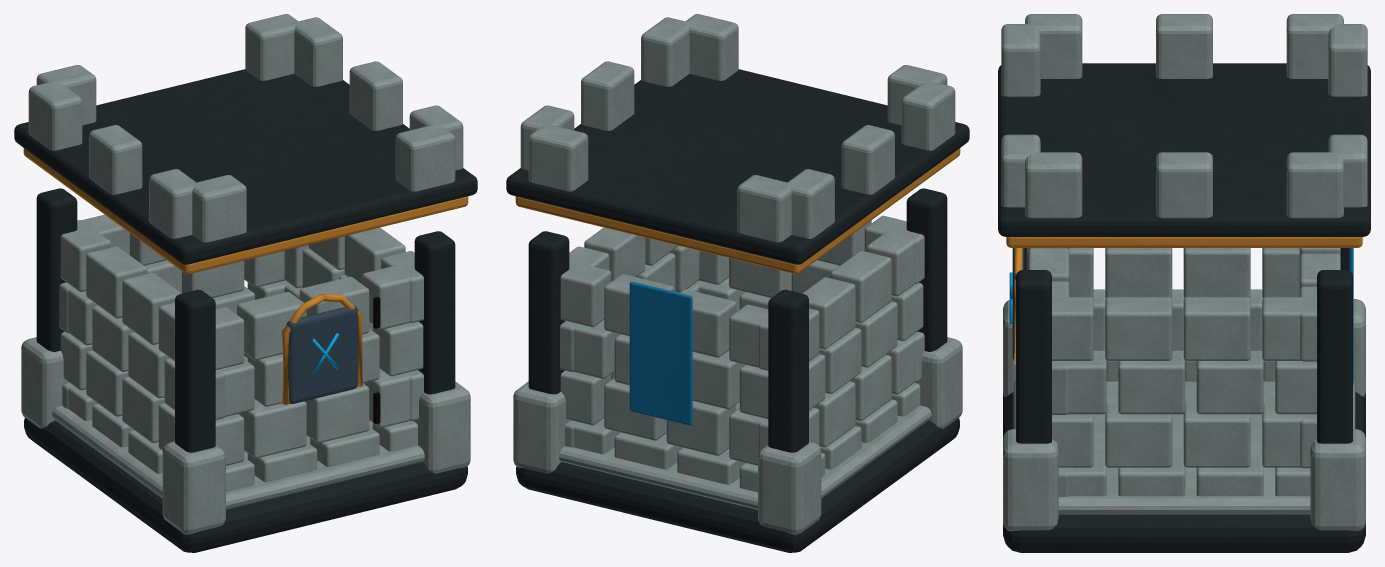
File: SM_tower_guard.fbx
The picture shows the model from 3 angles, left to right: view 1: azimuth 30°, elevation 25°; view 2: azimuth 150°, elevation 25°; view 3: azimuth 270°, elevation 25°; orthographic projection. The views are drawn at different scales.
Parts seen in each view (by area): view 1: SM_tower_guard; view 2: SM_tower_guard; view 3: SM_tower_guard.
Part boxes in pixels (x1=…): SM_tower_guard: x1=14, y1=14, x2=477, y2=552; SM_tower_guard: x1=506, y1=14, x2=969, y2=552; SM_tower_guard: x1=998, y1=14, x2=1370, y2=552.
Size of the model in its own units: 2.28 by 2.28 by 2.65.
